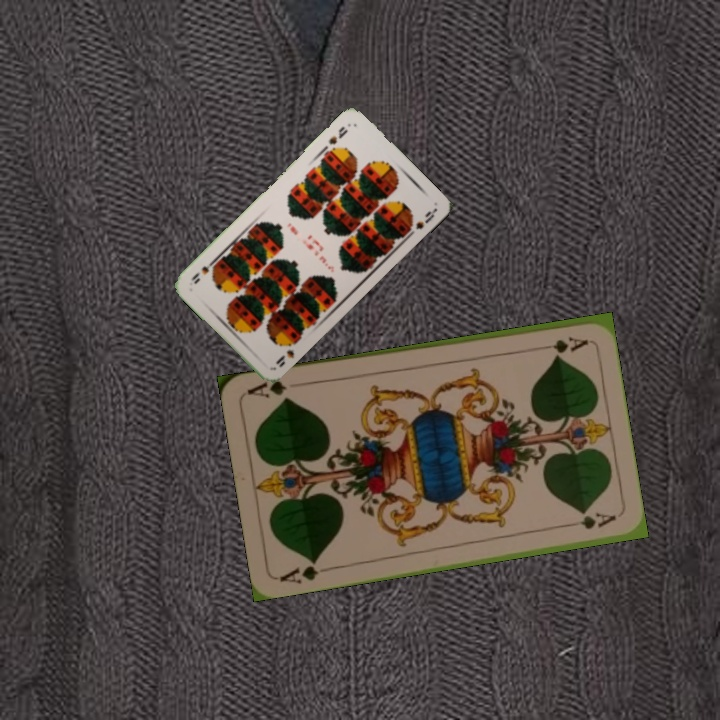GA: (275, 555, 334, 586), (531, 332, 590, 355)
S9: (272, 337, 300, 370), (324, 122, 350, 147)
